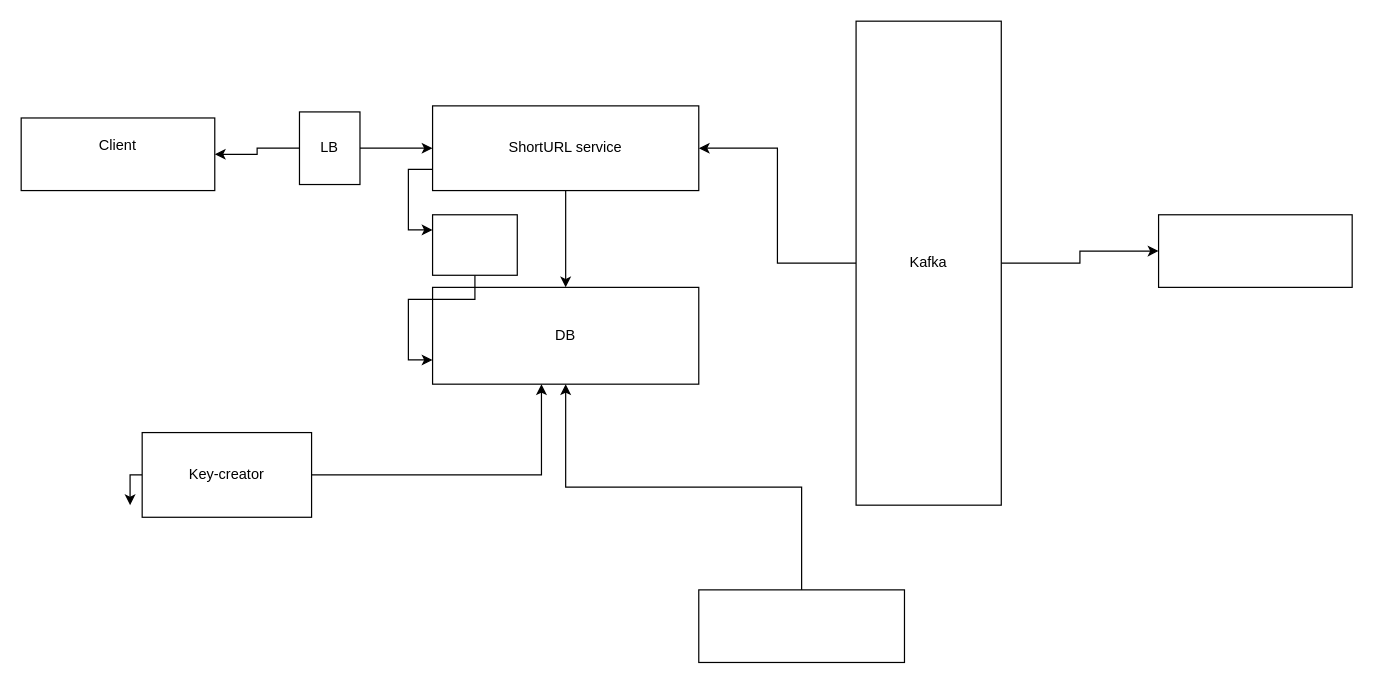
This 1373x684 diagram has some shape labels left out. Here are the shapes that lost their labels. From the top down, the centre of each, then its label:
pixel 474 244: Cache for optimizing GETrequest
pixel 1254 250: Data warehouse for analysis
pixel 801 625: scheduled service for clean up
